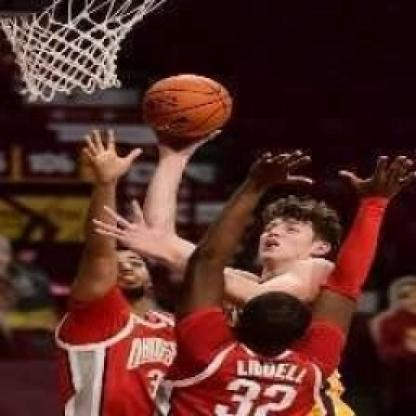basketball: (139, 70, 235, 142)
